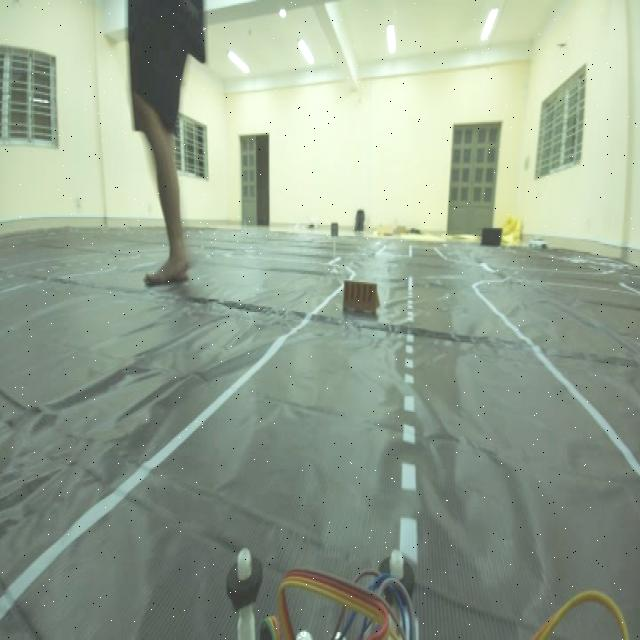roadblock: (339, 270, 389, 324)
